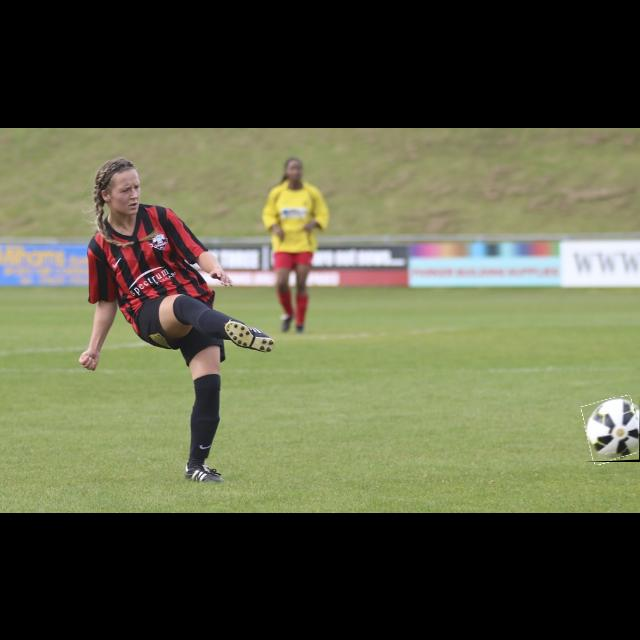Football: (584, 397, 640, 462)
